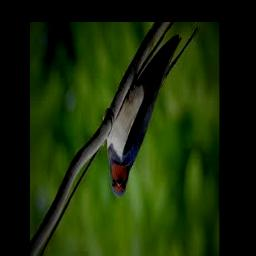Swallow: (106, 26, 200, 198)
